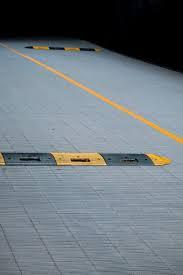Bump: (1, 147, 168, 171), (23, 44, 105, 55)
